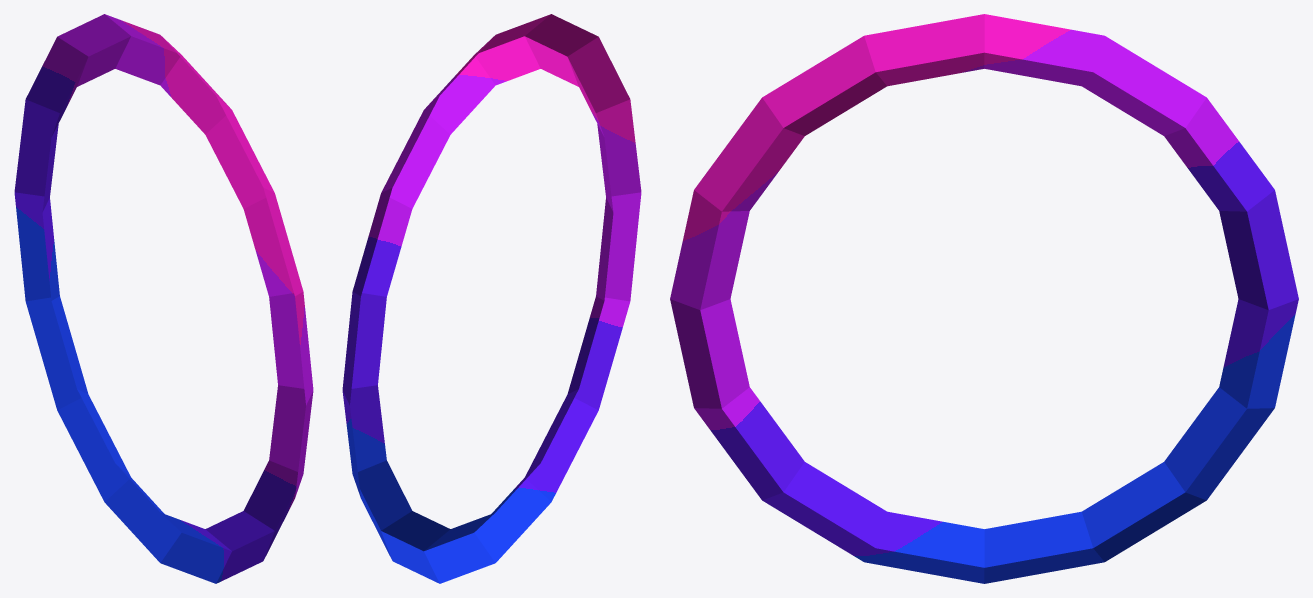
File: players_3.obj
3 renders of one model, left to right at view 1: azimuth 30°, elevation 25°; view 2: azimuth 150°, elevation 25°; view 3: azimuth 270°, elevation 25°, orthographic. The views are drawn at different scales.
Visible parts, largest first — view 1: players_3; view 2: players_3; view 3: players_3.
Boxes of the visible parts, x1,y1,x2,y2 form: players_3: (14,14,313,583); players_3: (342,14,641,583); players_3: (670,14,1298,583).
Size of the model in its own units: 0.7948 by 18.73 by 18.73.
1 material, 1 textured.
